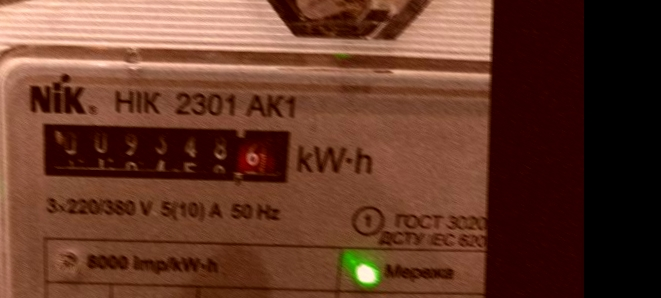0: (61, 130, 78, 156), (92, 127, 107, 154)
3: (153, 130, 168, 156)
4: (180, 129, 199, 159)
6: (243, 139, 261, 168)
8: (212, 133, 228, 161)
9: (123, 131, 138, 159)
screen: (23, 109, 304, 194)
